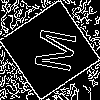M: (25, 25, 77, 75)
